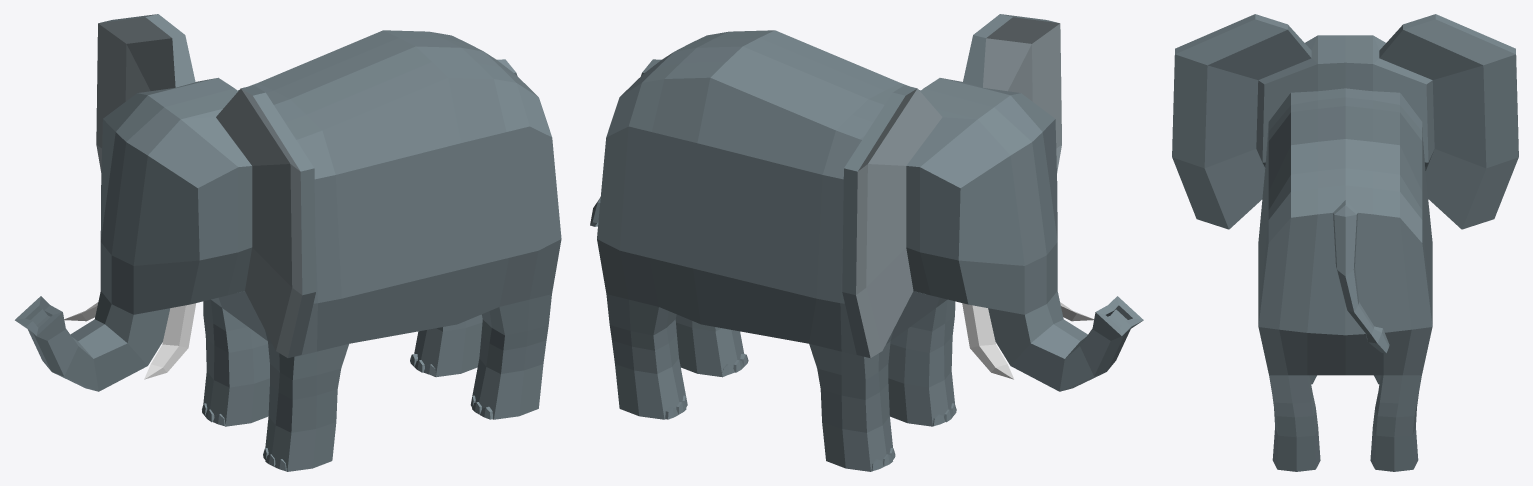
Rendered from elephant.glb.
3 renders of one model, left to right at view 1: azimuth 30°, elevation 25°; view 2: azimuth 150°, elevation 25°; view 3: azimuth 270°, elevation 25°, orthographic. The views are drawn at different scales.
Visible parts, largest first — view 1: Cube.029_Cube.028; view 2: Cube.029_Cube.028; view 3: Cube.029_Cube.028.
Part boxes in pixels (x1,y1,x2,y2): Cube.029_Cube.028: (15, 14, 561, 471); Cube.029_Cube.028: (590, 14, 1143, 471); Cube.029_Cube.028: (1172, 14, 1518, 471).
Bounding box in the file's own units: 265 × 192 × 181.
